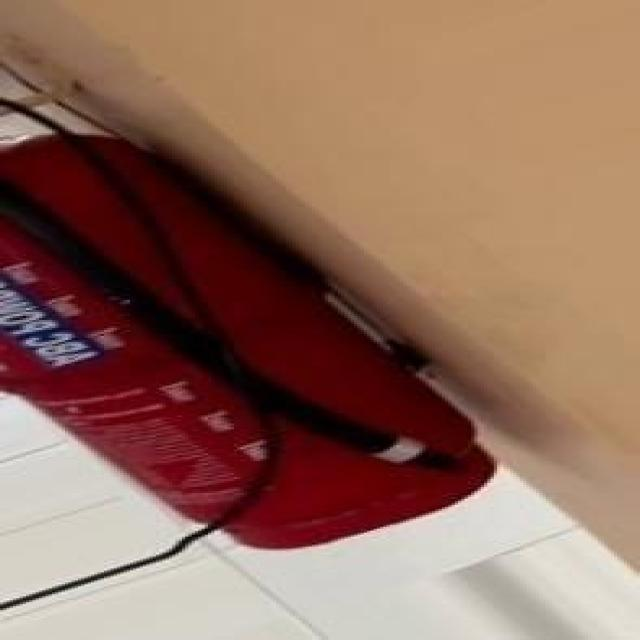fire_extinguisher: (0, 81, 504, 552)
